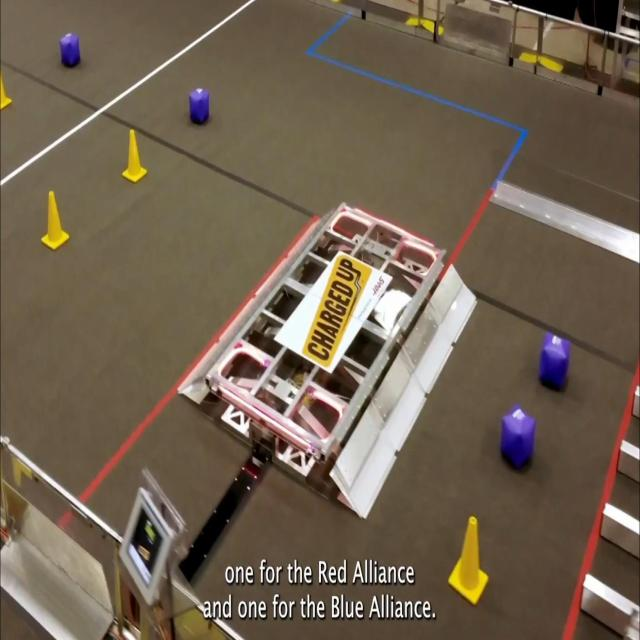frc_cone: (449, 512, 489, 606), (41, 191, 69, 250), (121, 129, 148, 184), (0, 59, 14, 113)
frc_cube: (500, 408, 536, 470), (539, 329, 571, 392), (188, 86, 209, 126), (59, 32, 81, 68)
